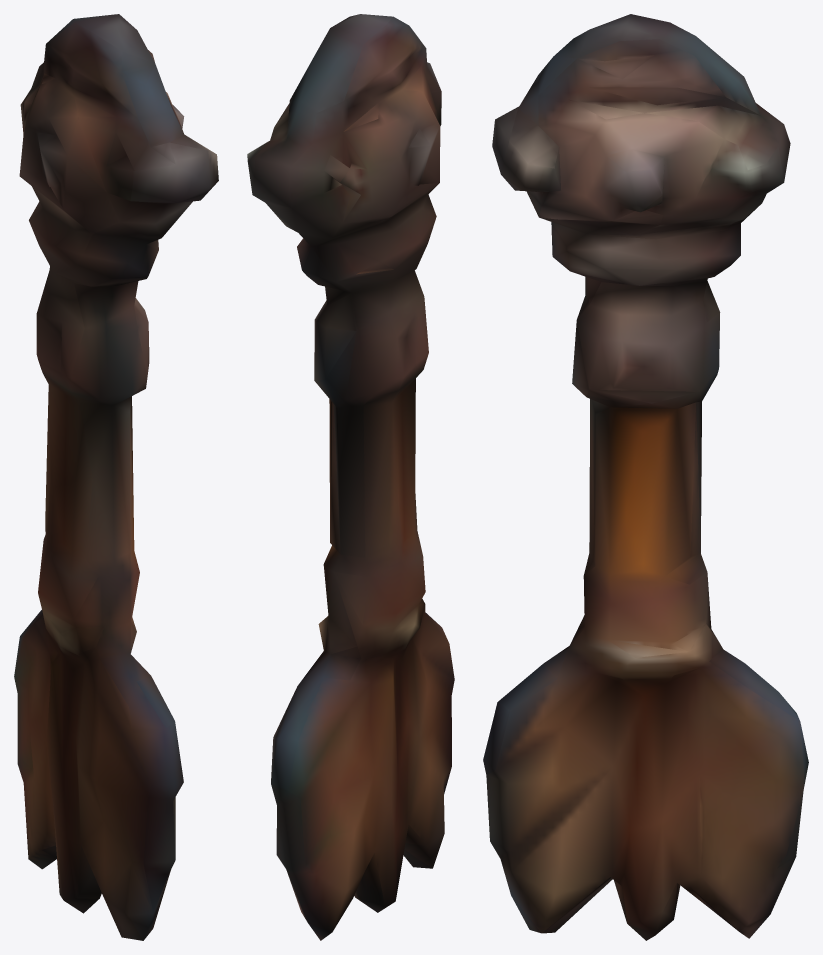
File: bolt_thumper.glb
3 views of the same model, side by side, from view 1: azimuth 30°, elevation 25°; view 2: azimuth 150°, elevation 25°; view 3: azimuth 270°, elevation 25° (orthographic). The views are drawn at different scales.
Visible parts, largest first — view 1: model; view 2: model; view 3: model.
Boxes of the visible parts, left/top/right/bottom form: model: left=14, top=14, right=218, bottom=940; model: left=247, top=14, right=454, bottom=940; model: left=483, top=14, right=808, bottom=940.
Bounding box in the file's own units: 0.0667 × 0.4005 × 0.1273.
1 material, 1 textured.
